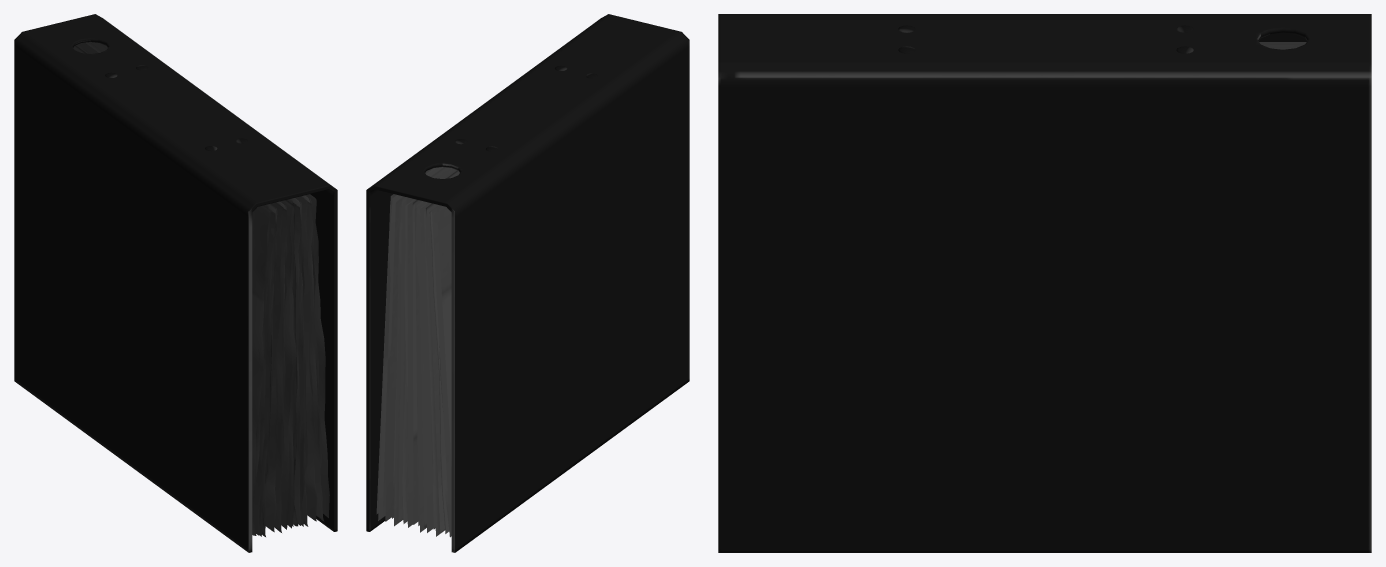
Rendered from black_book_interference_dark_grey_small.obj.
The picture shows the model from 3 angles, left to right: view 1: azimuth 30°, elevation 25°; view 2: azimuth 150°, elevation 25°; view 3: azimuth 270°, elevation 25°; orthographic projection. The views are drawn at different scales.
Parts seen in each view (by area): view 1: black_book_interference_dark_grey_small_Chocofur_Office_06.000, black_book_interference_dark_grey_small_Chocofur_Office_06.002; view 2: black_book_interference_dark_grey_small_Chocofur_Office_06.000, black_book_interference_dark_grey_small_Chocofur_Office_06.002; view 3: black_book_interference_dark_grey_small_Chocofur_Office_06.000.
Part boxes in pixels (<box>): black_book_interference_dark_grey_small_Chocofur_Office_06.000: <box>14,14,337,552</box>; black_book_interference_dark_grey_small_Chocofur_Office_06.002: <box>73,42,329,536</box>; black_book_interference_dark_grey_small_Chocofur_Office_06.000: <box>366,14,689,552</box>; black_book_interference_dark_grey_small_Chocofur_Office_06.002: <box>376,167,459,537</box>; black_book_interference_dark_grey_small_Chocofur_Office_06.000: <box>718,14,1371,552</box>.
Bounding box in the file's own units: 0.0755 × 0.2833 × 0.3455.
3 materials, 3 textured.
